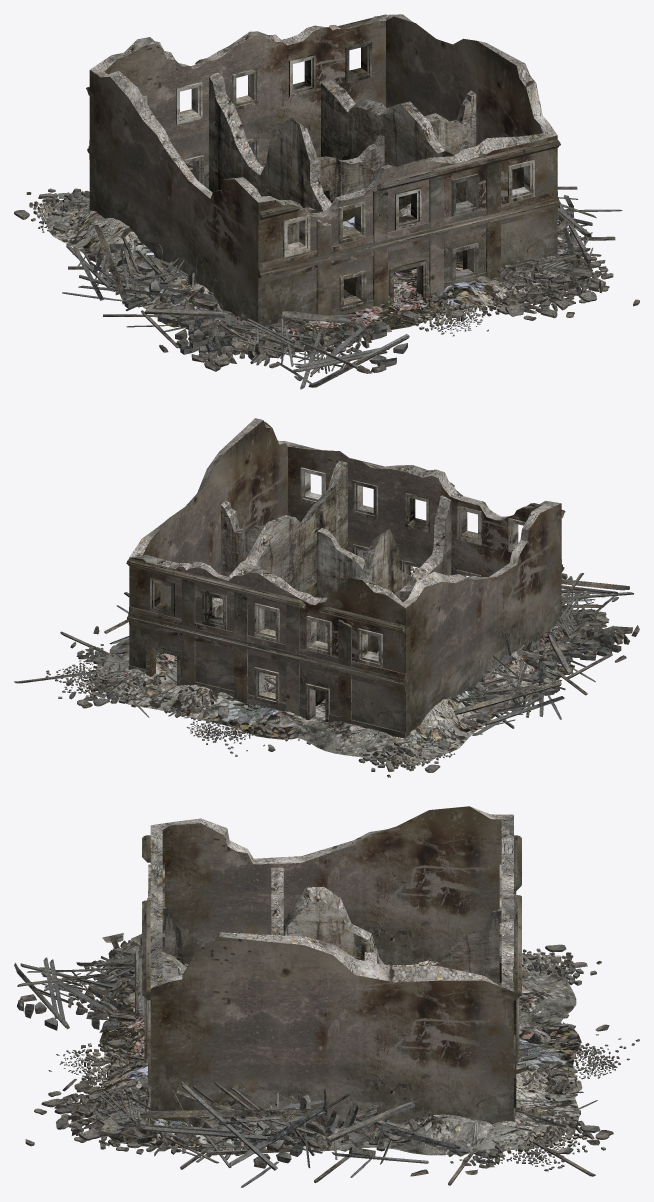
File: Small Green Building.fbx
The picture shows the model from 3 angles, top to bottom: view 1: azimuth 30°, elevation 25°; view 2: azimuth 150°, elevation 25°; view 3: azimuth 270°, elevation 25°; orthographic projection. The views are drawn at different scales.
Visible parts, largest first — view 1: rBLow09_wall, rBLow09_wallEl, rBLow09_P01, rBLow09_Edg, rBLow09_windows, rRubc.001, rRube, rBLow09_Ra, rRubd, rBLow09_P02, rBLow09_Rb, rRubc (+4 smaller); view 2: rBLow09_wall, rBLow09_wallEl, rBLow09_Ra, rBLow09_P01, rBLow09_windows, rBLow09_Edg, rRube, rRubc.001, rRubi.001, rRubb, rBLow09_P02, rRubb.001 (+2 smaller); view 3: rBLow09_wall, rRubc, rBLow09_Ra, rBLow09_Edg, rRubc.001, rBLow09_P01, rRubd, rRubi.001, rBLow09_wallEl, rRubb, rBLow09_Rb, rRubk01 (+5 smaller).
Boxes of the visible parts, x1,y1,x2,y2 form: rBLow09_wall: [89, 16, 557, 329]; rBLow09_wallEl: [86, 14, 560, 329]; rBLow09_P01: [209, 77, 467, 296]; rBLow09_Edg: [90, 14, 556, 230]; rBLow09_windows: [143, 40, 534, 311]; rRubc.001: [175, 307, 409, 389]; rRube: [62, 224, 311, 383]; rBLow09_Ra: [42, 157, 592, 327]; rRubd: [454, 246, 639, 320]; rBLow09_P02: [287, 94, 476, 244]; rBLow09_Rb: [194, 270, 448, 354]; rRubc: [557, 186, 622, 278]; rBLow09_wall: [129, 420, 561, 737]; rBLow09_wallEl: [126, 458, 565, 738]; rBLow09_Ra: [89, 596, 574, 762]; rBLow09_P01: [212, 463, 451, 706]; rBLow09_windows: [146, 467, 525, 721]; rBLow09_Edg: [129, 418, 560, 607]; rRube: [454, 596, 626, 735]; rRubc.001: [536, 573, 639, 663]; rRubi.001: [14, 631, 177, 717]; rRubb: [163, 675, 325, 756]; rBLow09_P02: [221, 505, 410, 630]; rRubb.001: [342, 738, 436, 771]; rBLow09_wall: [150, 806, 513, 1128]; rRubc: [117, 1080, 498, 1187]; rBLow09_Ra: [94, 953, 581, 1155]; rBLow09_Edg: [148, 806, 513, 991]; rRubc.001: [14, 933, 188, 1046]; rBLow09_P01: [162, 901, 501, 985]; rRubd: [25, 1069, 191, 1154]; rRubi.001: [448, 1090, 613, 1185]; rBLow09_wallEl: [142, 835, 521, 1122]; rRubb: [516, 1014, 639, 1099]; rBLow09_Rb: [99, 969, 144, 1065]; rRubk01: [74, 1043, 142, 1088].
Size of the model in its own units: 3099 by 1094 by 3085.
